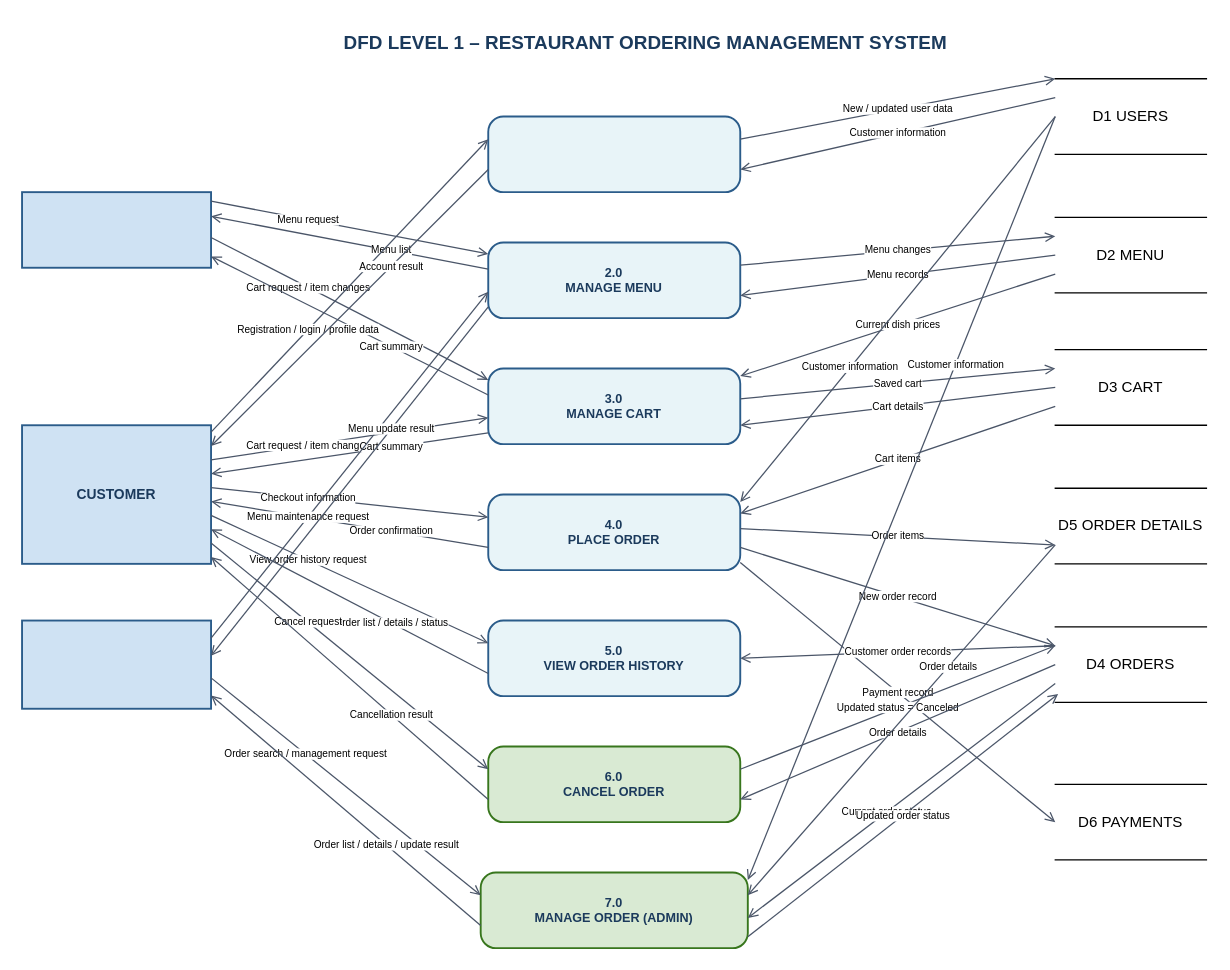
Image size: 1230x970. Some labels were removed from this diagram. Here are the shapes that lost their labels. From the top down, the centre of each, then its label:
point (614, 154): 1.0 MANAGE ACCOUNT
point (116, 229): GUEST
point (116, 664): ADMIN
